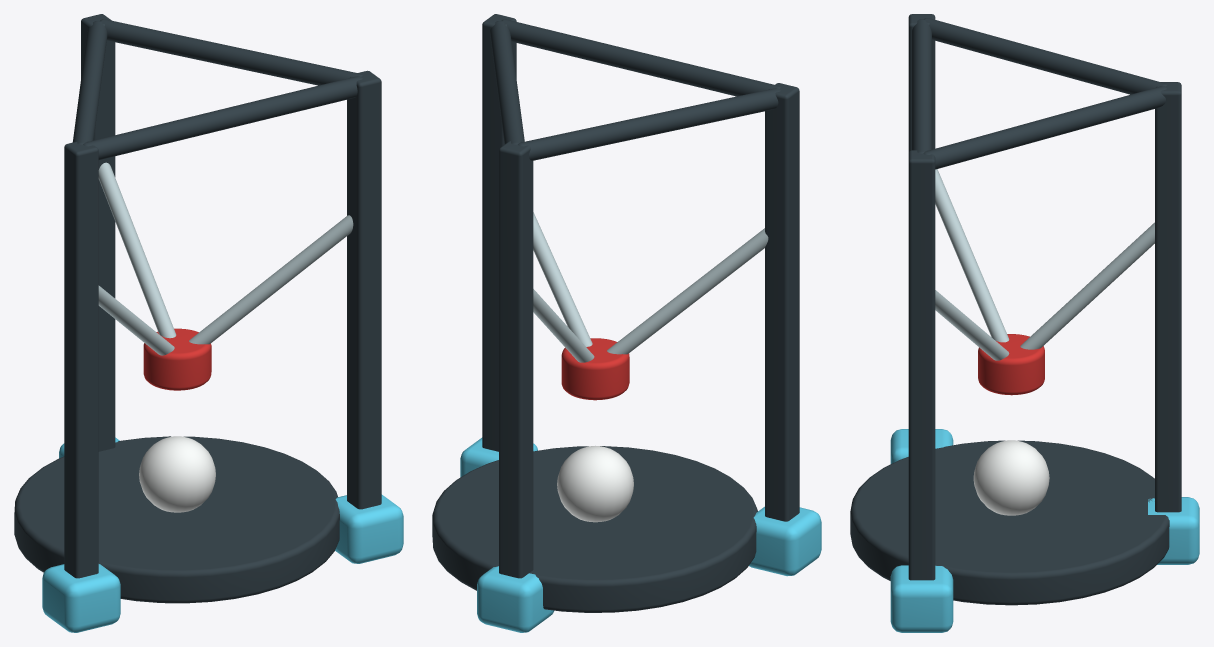
File: delta-3d-printer.glb
3 views of the same model, side by side, from view 1: azimuth 30°, elevation 25°; view 2: azimuth 150°, elevation 25°; view 3: azimuth 270°, elevation 25° (orthographic).
Parts seen in each view (by area): view 1: Circular print bed, Tower, Tower.001, Tower.002, Top triangle, Top triangle.001, Printed part, Blue tower foot, Blue tower foot.001, Delta arm.001, Print head, Delta arm.002 (+2 smaller); view 2: Circular print bed, Tower.002, Tower, Tower.001, Top triangle, Top triangle.002, Printed part, Blue tower foot, Blue tower foot.002, Print head, Delta arm, Top triangle.001 (+3 smaller); view 3: Circular print bed, Tower.001, Tower.002, Top triangle.001, Top triangle.002, Printed part, Blue tower foot.001, Print head, Delta arm, Delta arm.002, Top triangle, Blue tower foot.002 (+3 smaller).
Part boxes in pixels (<box>): Circular print bed: <box>14,436,339,603</box>; Tower: <box>64,141,98,578</box>; Tower.001: <box>347,70,381,509</box>; Tower.002: <box>81,14,115,451</box>; Top triangle: <box>83,76,362,159</box>; Top triangle.001: <box>100,19,362,85</box>; Printed part: <box>139,436,215,512</box>; Blue tower foot: <box>42,564,120,632</box>; Blue tower foot.001: <box>335,494,403,563</box>; Delta arm.001: <box>189,215,353,344</box>; Print head: <box>143,328,211,390</box>; Delta arm.002: <box>98,162,176,338</box>; Circular print bed: <box>432,446,757,612</box>; Tower.002: <box>499,141,533,578</box>; Tower: <box>765,83,799,521</box>; Tower.001: <box>482,14,516,451</box>; Top triangle: <box>501,19,780,96</box>; Top triangle.002: <box>518,88,780,160</box>; Printed part: <box>557,445,633,522</box>; Blue tower foot: <box>749,506,821,576</box>; Blue tower foot.002: <box>477,566,553,632</box>; Print head: <box>561,338,629,400</box>; Delta arm: <box>607,228,768,354</box>; Top triangle.001: <box>490,21,524,144</box>; Circular print bed: <box>850,440,1169,605</box>; Tower.001: <box>908,150,935,580</box>; Tower.002: <box>1155,82,1181,512</box>; Top triangle.001: <box>923,86,1166,169</box>; Top triangle.002: <box>924,18,1166,94</box>; Printed part: <box>973,440,1049,515</box>; Blue tower foot.001: <box>890,565,953,632</box>; Print head: <box>978,334,1044,395</box>; Delta arm: <box>935,169,1009,342</box>; Delta arm.002: <box>1020,222,1154,349</box>; Top triangle: <box>912,19,931,153</box>; Blue tower foot.002: <box>1148,497,1199,564</box>.
Bounding box in the file's own units: 1.72 × 2.32 × 1.56.
